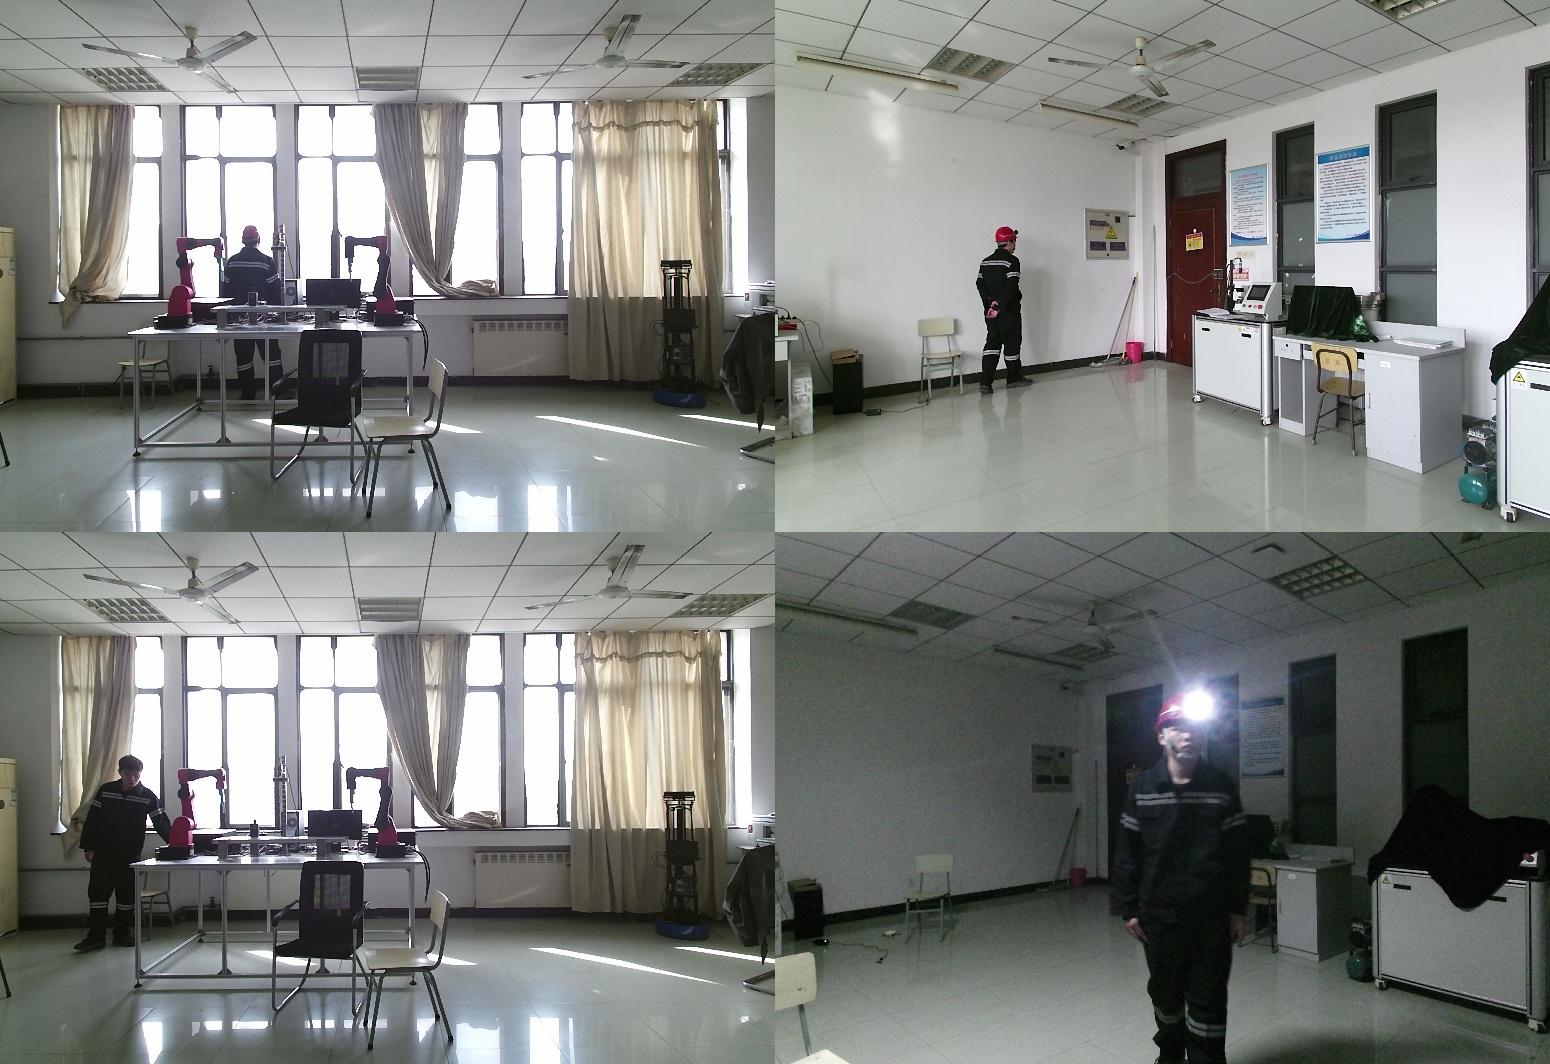person: (1113, 695, 1259, 1064), (72, 758, 168, 951), (219, 226, 293, 409), (975, 226, 1029, 394)
